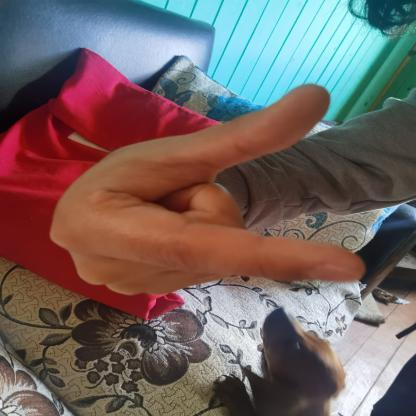G: (38, 74, 382, 316)
